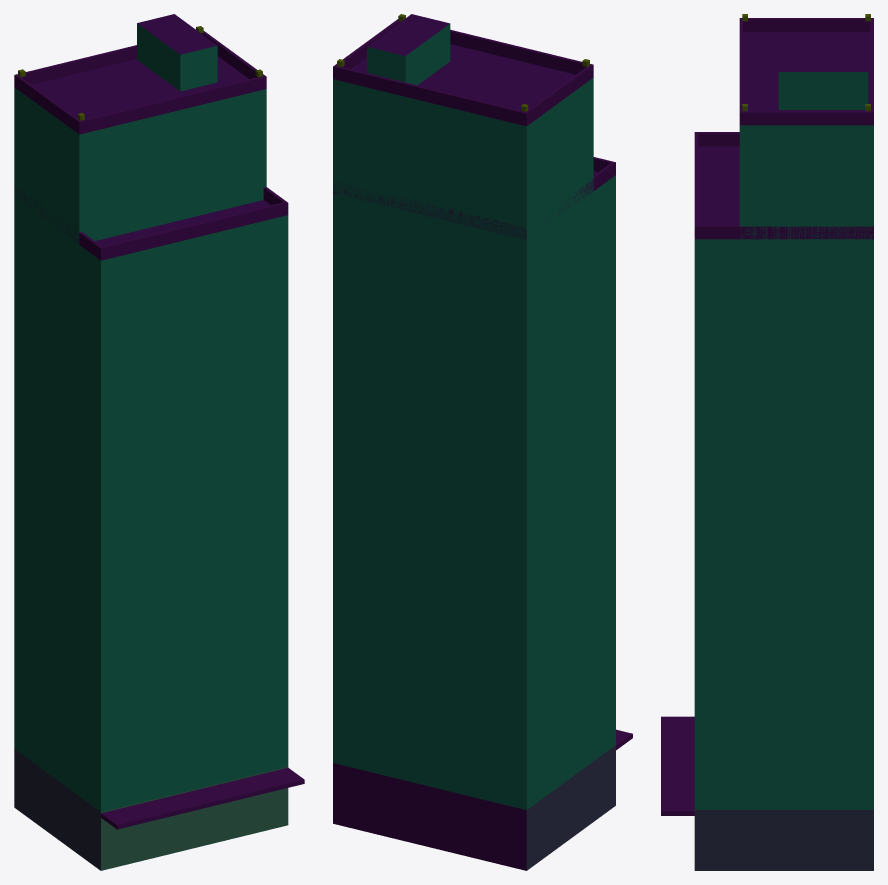
Rendered from fringe_d.glb.
3 renders of one model, left to right at view 1: azimuth 30°, elevation 25°; view 2: azimuth 150°, elevation 25°; view 3: azimuth 270°, elevation 25°, orthographic. The views are drawn at different scales.
Parts seen in each view (by area): view 1: fringe_d; view 2: fringe_d; view 3: fringe_d.
Boxes of the visible parts, <box> form: fringe_d: <box>14,14,304,870</box>; fringe_d: <box>333,14,632,870</box>; fringe_d: <box>661,14,873,870</box>.
Size of the model in its own units: 16 by 61.8 by 15.2.
